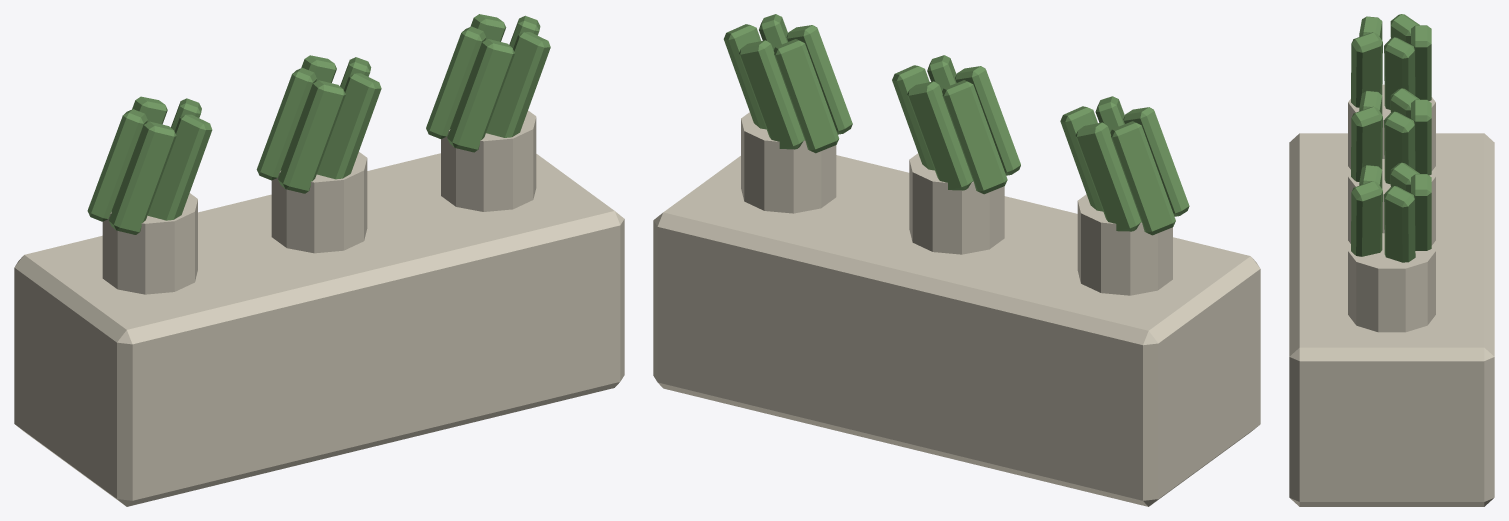
File: planter.glb
3 renders of one model, left to right at view 1: azimuth 30°, elevation 25°; view 2: azimuth 150°, elevation 25°; view 3: azimuth 270°, elevation 25°, orthographic. The views are drawn at different scales.
Parts seen in each view (by area): view 1: planter; view 2: planter; view 3: planter.
Boxes of the visible parts, x1,y1,x2,y2 form: planter: (14, 14, 624, 506); planter: (653, 14, 1260, 506); planter: (1289, 14, 1494, 506).
Size of the model in its own units: 1.8 by 1.15 by 0.7.
